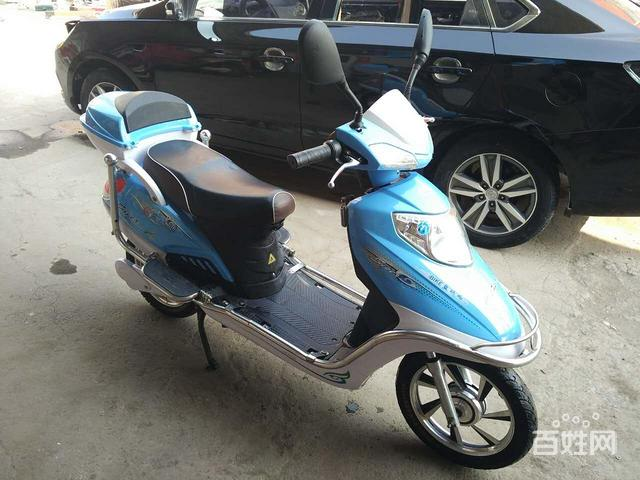电动车: (82, 17, 546, 470)
